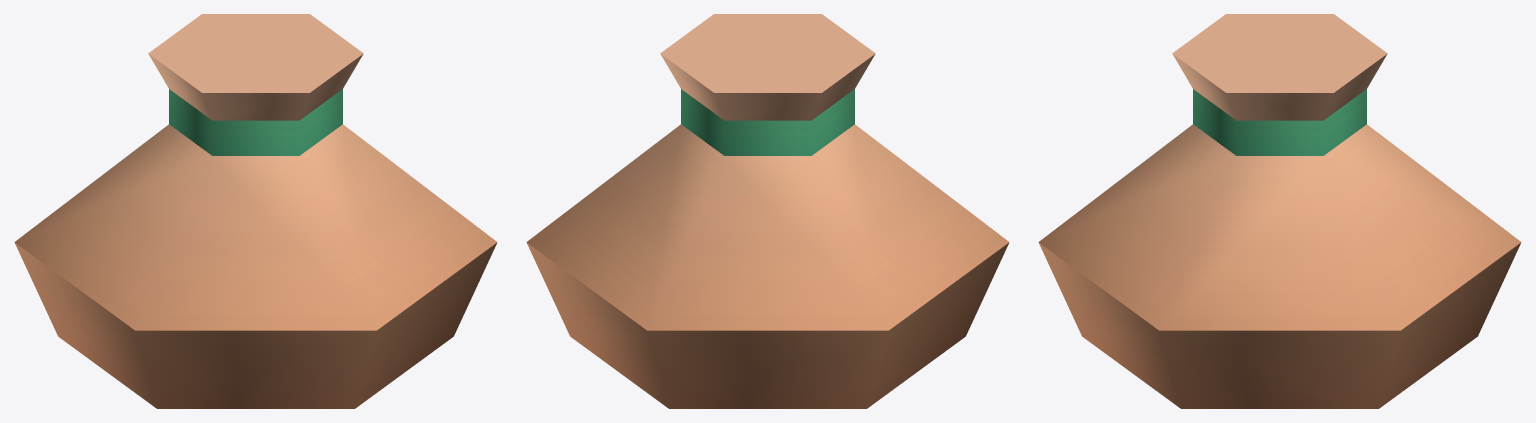
The model's file is dim-sum.glb.
The picture shows the model from 3 angles, left to right: view 1: azimuth 30°, elevation 25°; view 2: azimuth 150°, elevation 25°; view 3: azimuth 270°, elevation 25°; orthographic projection.
Visible parts, largest first — view 1: dim-sum; view 2: dim-sum; view 3: dim-sum.
Boxes of the visible parts, x1=… form: dim-sum: x1=14, y1=14, x2=497, y2=408; dim-sum: x1=526, y1=14, x2=1009, y2=408; dim-sum: x1=1038, y1=14, x2=1521, y2=408.
Size of the model in its own units: 0.1607 by 0.12 by 0.1856.
1 material, 1 textured.
